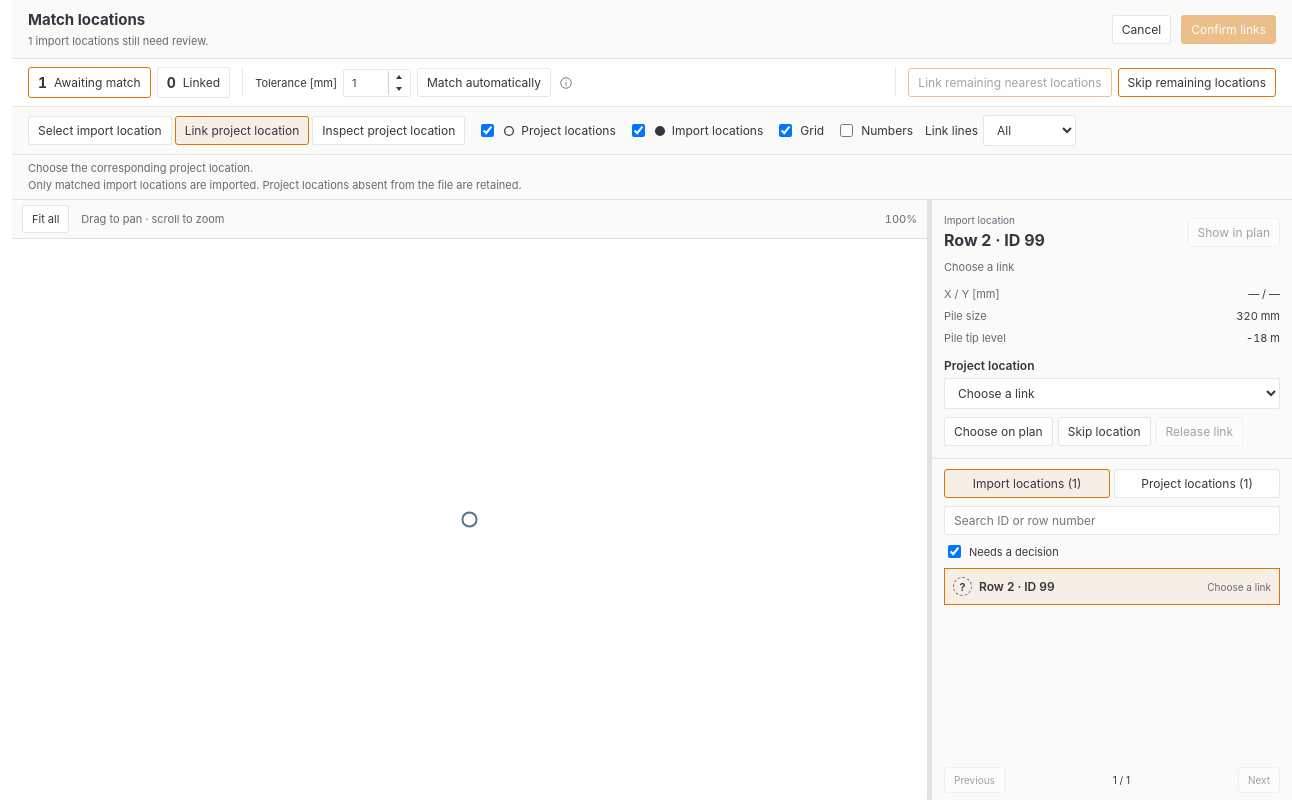
Test: matching remains usable after a StrictMode lifecycle restart
Select "1" in the dropdown labelled "Project location" at (1112,394), box x1=944 y1=378 x2=1280 y2=409
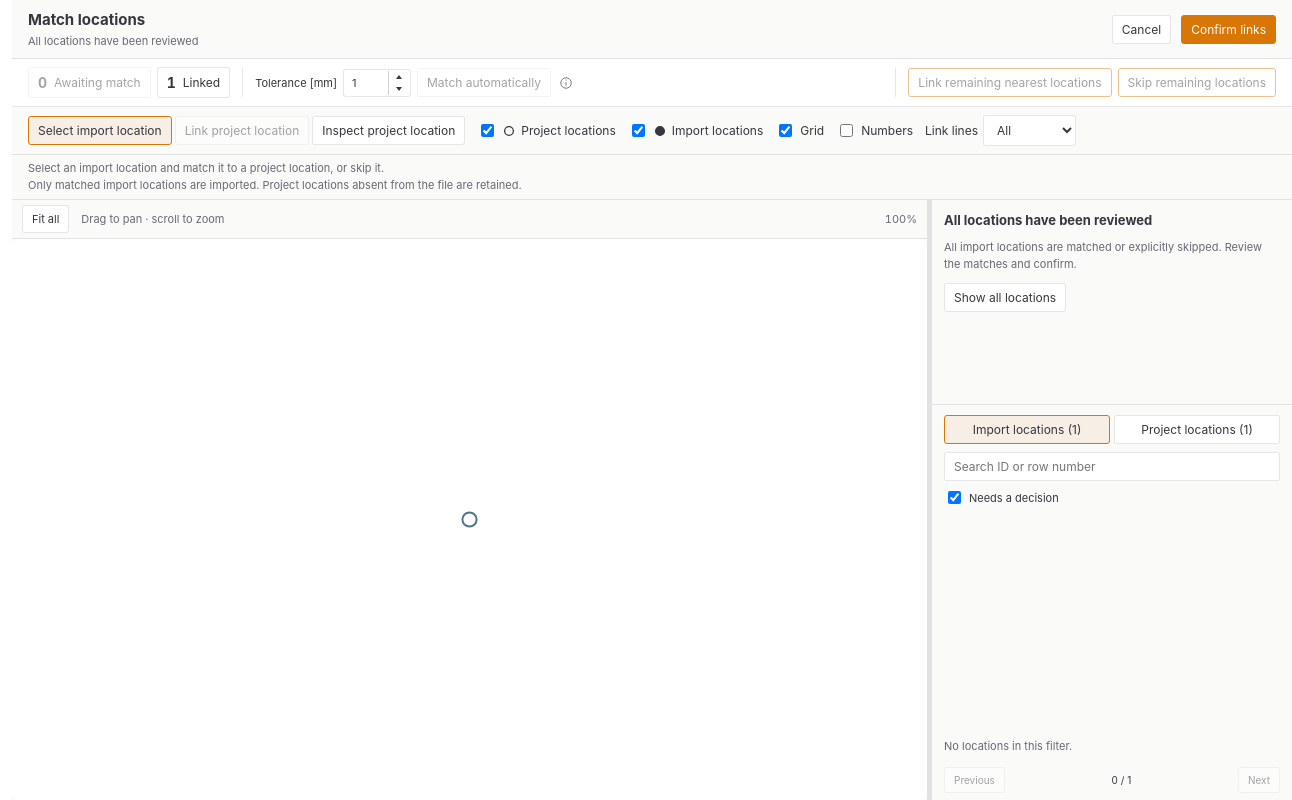
Expected: the button "Confirm links" is enabled, x1=1181 y1=14 x2=1276 y2=44
